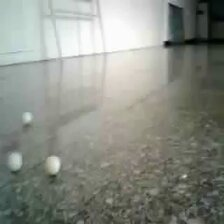w: (44, 155, 61, 175), (7, 152, 22, 170), (22, 113, 33, 125)
